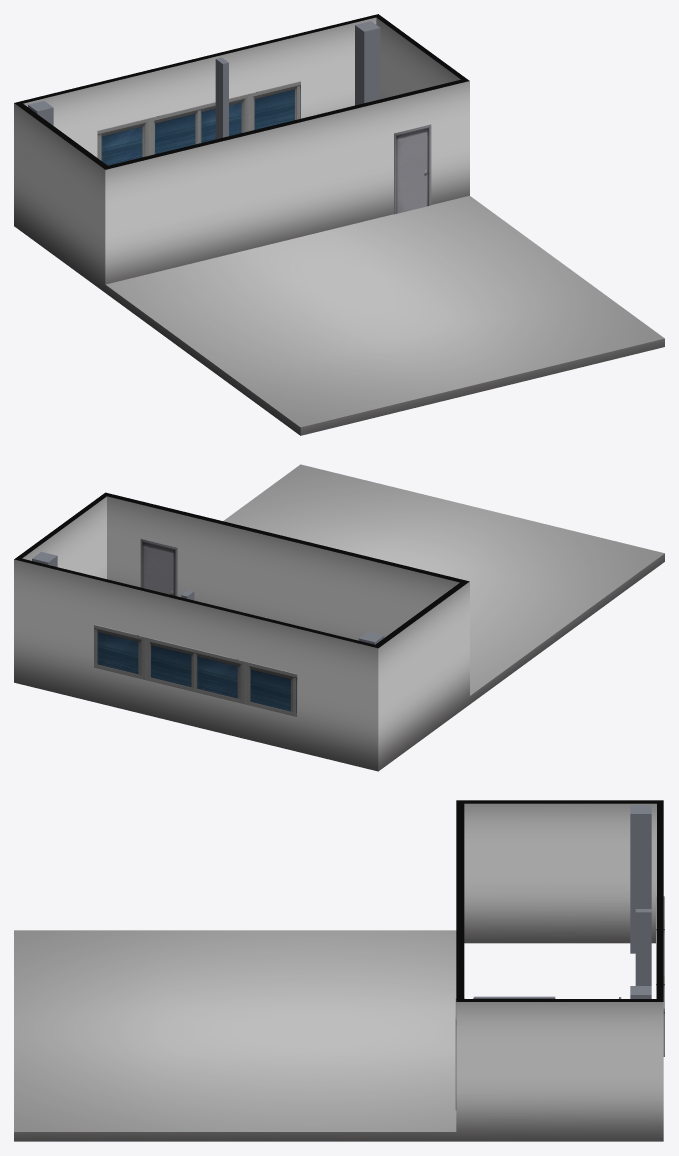
The model's file is soulbrain_T5-1-5F.glb.
3 views of the same model, one above another, from view 1: azimuth 30°, elevation 25°; view 2: azimuth 150°, elevation 25°; view 3: azimuth 270°, elevation 25° (orthographic). The views are drawn at different scales.
Parts seen in each view (by area): view 1: T5-1-5F, Box1699; view 2: T5-1-5F, Box1699; view 3: T5-1-5F.
Part boxes in pixels (x1,y1,x2,y2): T5-1-5F: (14,14,664,435); Box1699: (394,124,431,214); T5-1-5F: (14,464,664,771); Box1699: (140,538,177,596); T5-1-5F: (14,800,664,1141).
Bounding box in the file's own units: 8.98 × 2.9 × 12.25.
6 materials, 5 textured.
